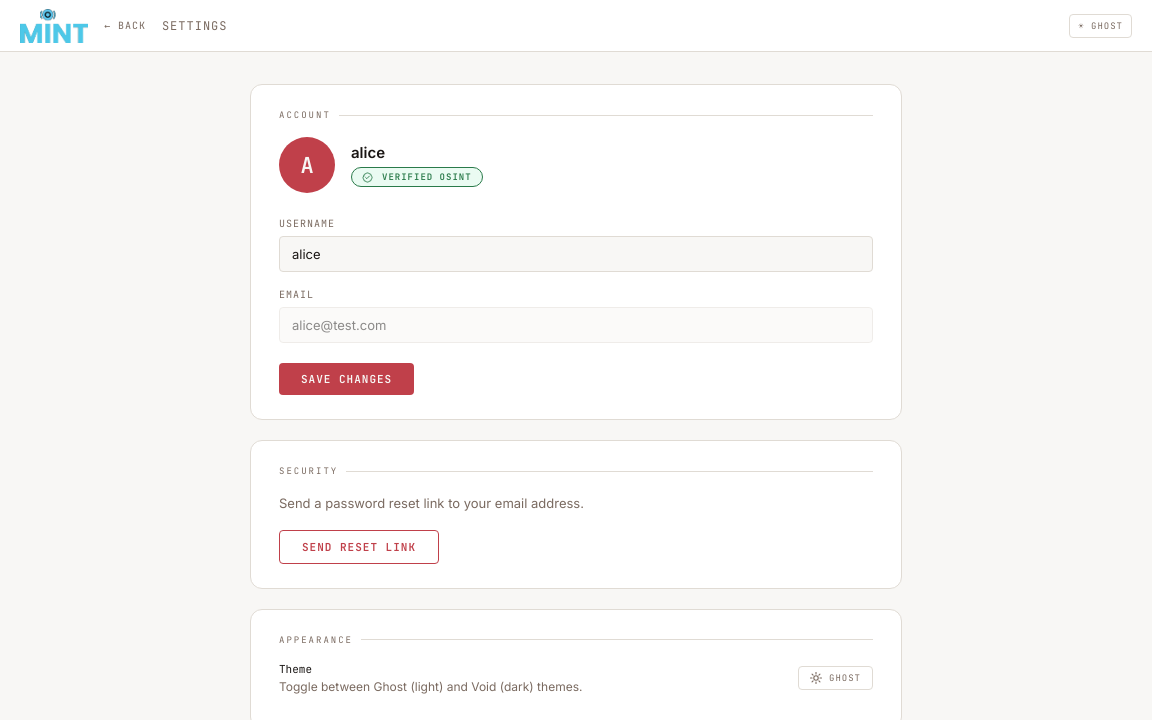
it: SettingsPage › shows success message after reset link sent
Click the button "SEND RESET LINK": click(359, 547) [279,530,439,564]
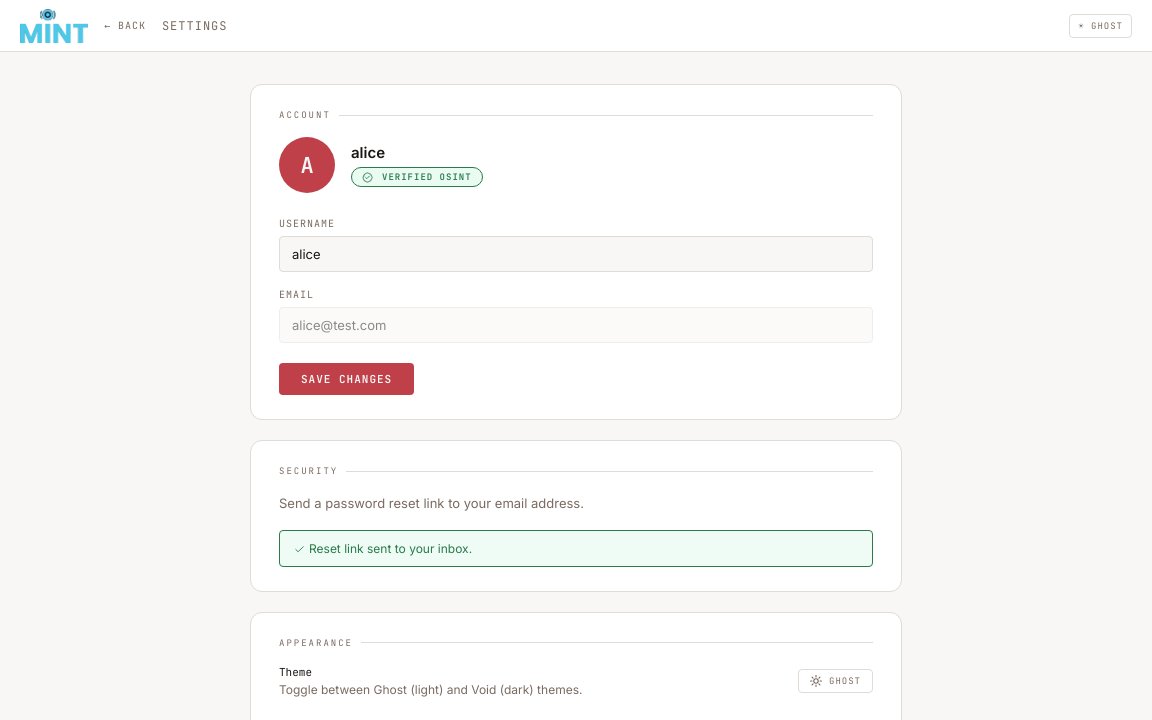
Result: the text "Reset link sent to your inbox." is shown at [279,530,873,567]
